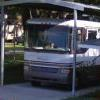Bus: (23, 13, 100, 91)
